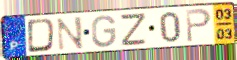0: (158, 10, 183, 44)
D: (26, 17, 57, 55)
G: (90, 14, 117, 49)
N: (55, 15, 86, 52)
P: (185, 7, 214, 44)
Z: (119, 12, 148, 48)
